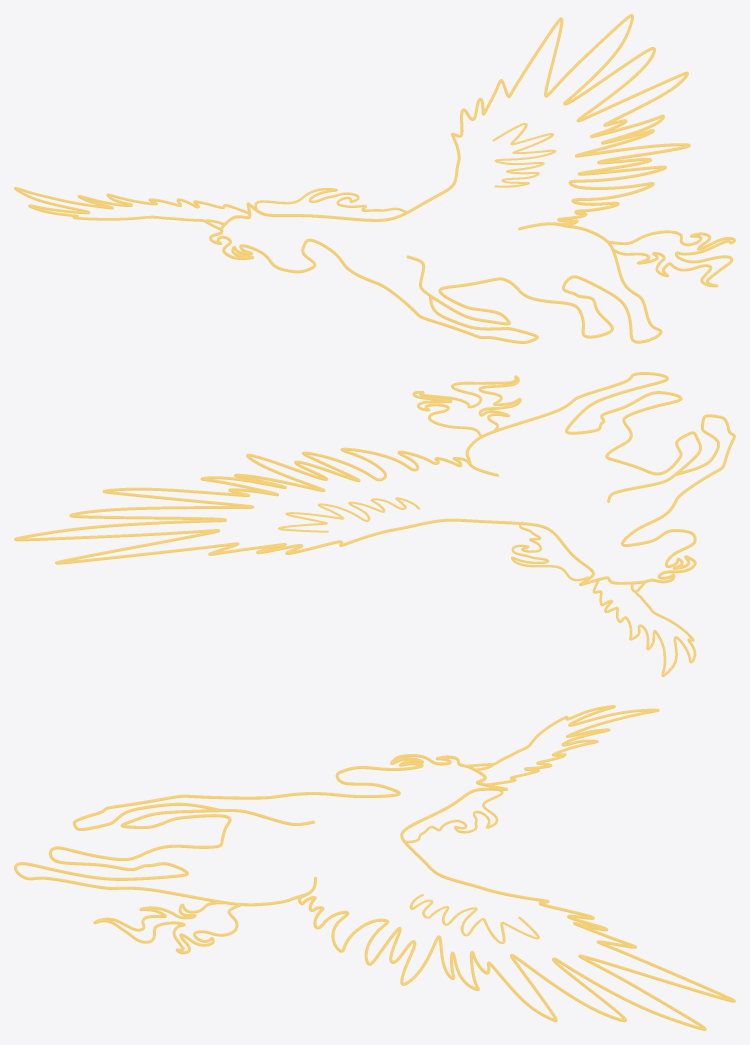
Rendered from pegasus-constellation.glb.
3 views of the same model, one above another, from view 1: azimuth 30°, elevation 25°; view 2: azimuth 150°, elevation 25°; view 3: azimuth 270°, elevation 25° (orthographic). The views are drawn at different scales.
Parts seen in each view (by area): view 1: NurbsPath.025, NurbsPath.026, NurbsPath.027, NurbsPath.029, NurbsPath.028; view 2: NurbsPath.025, NurbsPath.027, NurbsPath.026, NurbsPath.029, NurbsPath.028; view 3: NurbsPath.025, NurbsPath.026, NurbsPath.027, NurbsPath.029, NurbsPath.028.
Boxes of the visible parts, bbox=[...] form: NurbsPath.025: bbox=[209, 14, 690, 343]; NurbsPath.026: bbox=[14, 187, 248, 230]; NurbsPath.027: bbox=[608, 230, 735, 287]; NurbsPath.029: bbox=[492, 123, 556, 187]; NurbsPath.028: bbox=[254, 188, 406, 212]; NurbsPath.025: bbox=[14, 372, 735, 585]; NurbsPath.027: bbox=[412, 375, 521, 436]; NurbsPath.026: bbox=[592, 578, 696, 676]; NurbsPath.029: bbox=[278, 497, 420, 532]; NurbsPath.028: bbox=[511, 521, 589, 581]; NurbsPath.025: bbox=[14, 754, 735, 1030]; NurbsPath.026: bbox=[467, 705, 659, 785]; NurbsPath.027: bbox=[93, 901, 242, 954]; NurbsPath.029: bbox=[409, 894, 539, 943]; NurbsPath.028: bbox=[406, 787, 503, 843].
Size of the model in its own units: 29.58 by 0.2605 by 27.84.
